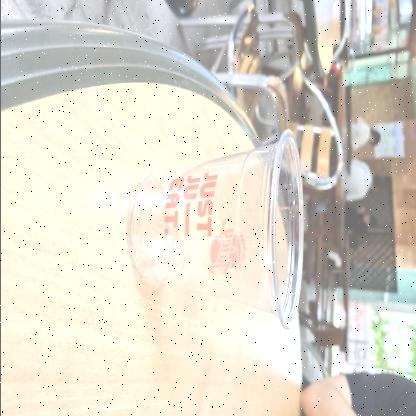Others: (121, 125, 306, 334)
